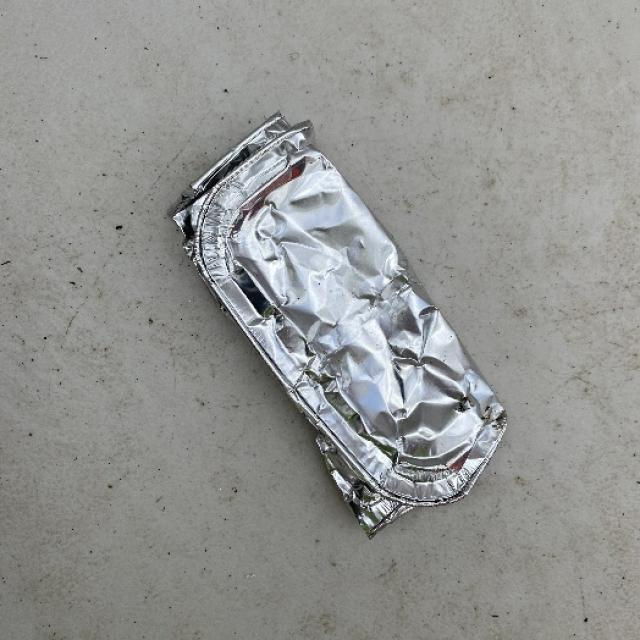metal: (171, 110, 508, 539)
